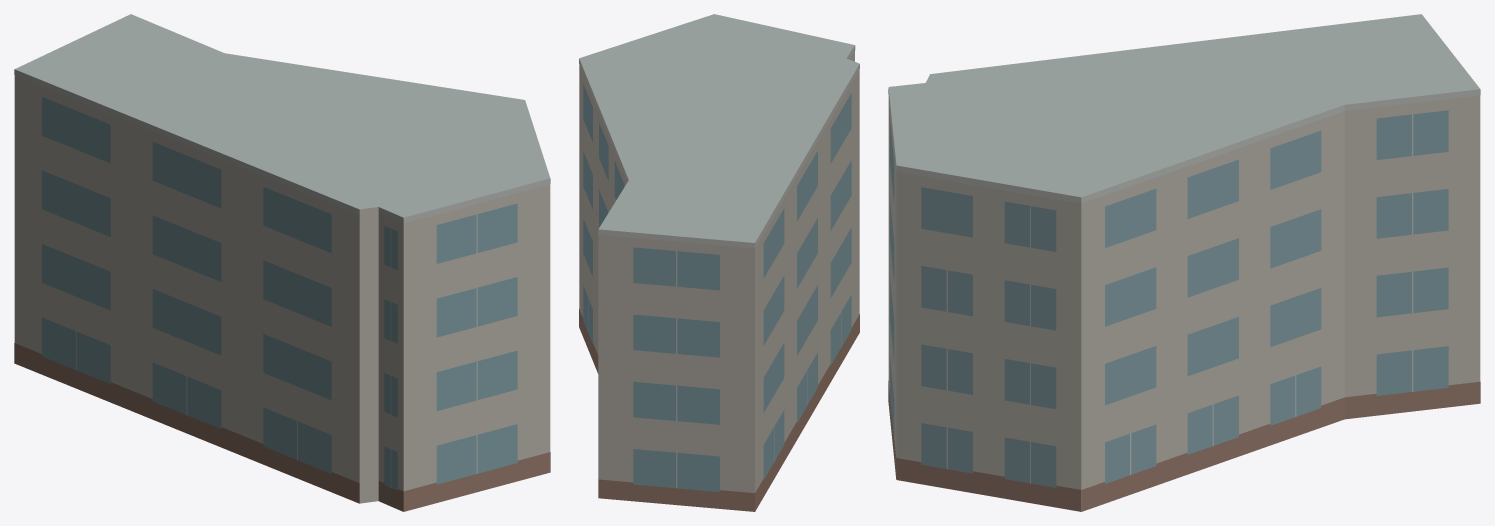
Rendered from survey-upis-32489306.glb.
3 views of the same model, side by side, from view 1: azimuth 30°, elevation 25°; view 2: azimuth 150°, elevation 25°; view 3: azimuth 270°, elevation 25° (orthographic). The views are drawn at different scales.
Parts seen in each view (by area): view 1: survey-upis-32489306.tmp; view 2: survey-upis-32489306.tmp; view 3: survey-upis-32489306.tmp.
Boxes of the visible parts, left/top/right/bottom form: survey-upis-32489306.tmp: left=14, top=14, right=550, bottom=511; survey-upis-32489306.tmp: left=579, top=14, right=859, bottom=511; survey-upis-32489306.tmp: left=888, top=14, right=1480, bottom=511.
Size of the model in its own units: 15.26 by 12.2 by 20.82.
